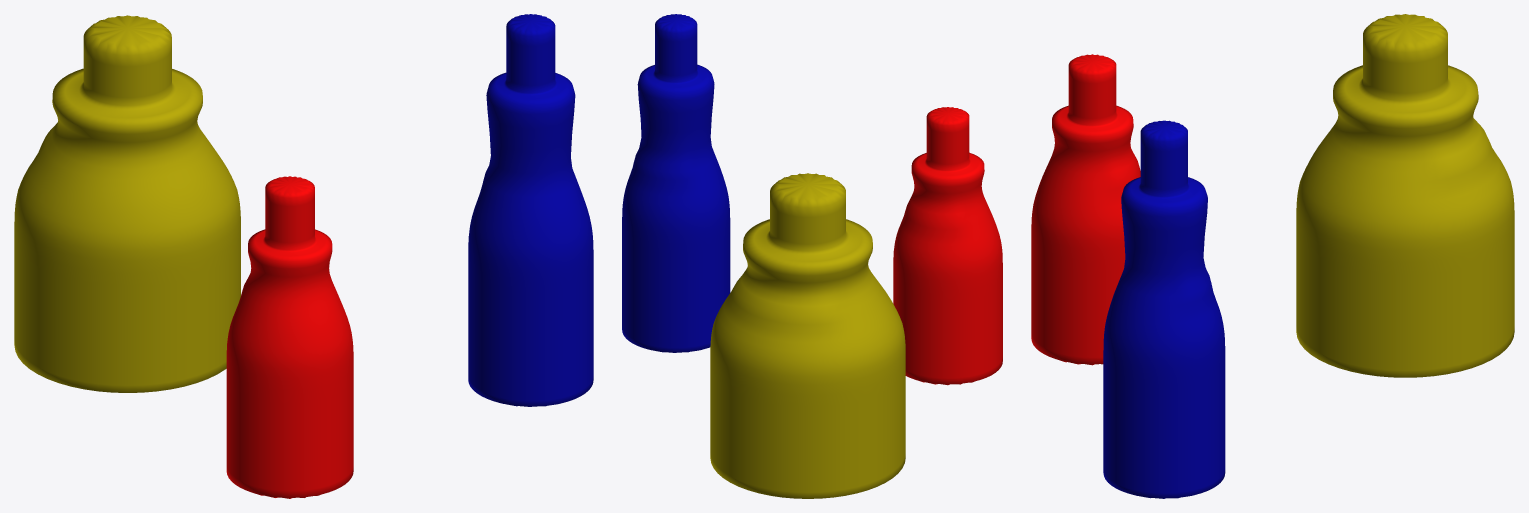
The model's file is botelles.FBX.
3 views of the same model, side by side, from view 1: azimuth 30°, elevation 25°; view 2: azimuth 150°, elevation 25°; view 3: azimuth 270°, elevation 25° (orthographic). The views are drawn at different scales.
Parts seen in each view (by area): view 1: Cone002; view 2: Cone002; view 3: Cone002.
Boxes of the visible parts, bbox=[...] form: Cone002: bbox=[14, 14, 593, 498]; Cone002: bbox=[622, 14, 1002, 498]; Cone002: bbox=[1031, 14, 1514, 498].
Bounding box in the file's own units: 32.76 × 26.58 × 33.07.
